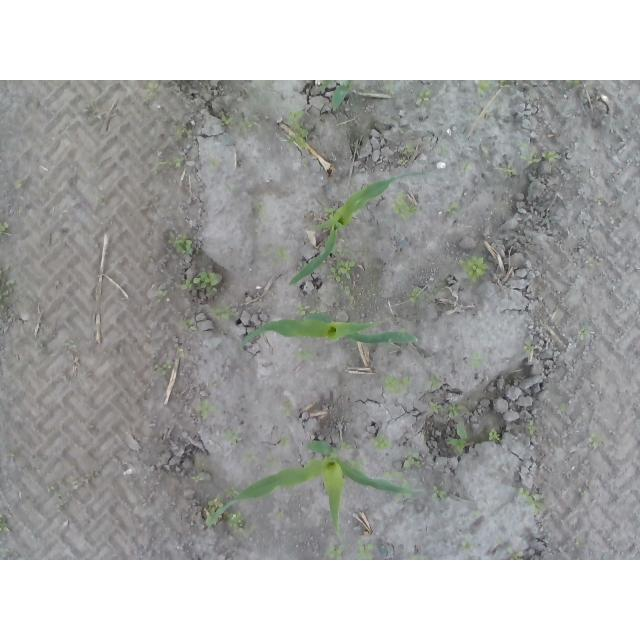Maize: (205, 439, 422, 536), (289, 170, 432, 283), (237, 310, 419, 351), (316, 81, 353, 116)
Weeds: (285, 108, 315, 148), (460, 253, 492, 284), (184, 271, 224, 294), (392, 189, 419, 222), (444, 421, 468, 457), (0, 265, 16, 317), (164, 232, 196, 256), (517, 486, 546, 512), (520, 150, 563, 167), (227, 513, 258, 536), (328, 258, 356, 283), (221, 114, 259, 130), (209, 304, 244, 321), (431, 402, 465, 419), (382, 375, 412, 394), (195, 399, 225, 418), (402, 452, 423, 472), (399, 143, 417, 165), (339, 440, 367, 453), (357, 542, 376, 560), (428, 372, 444, 392), (275, 248, 293, 265), (206, 493, 223, 510), (416, 88, 432, 106), (327, 541, 343, 559), (383, 81, 402, 96), (410, 288, 426, 305), (372, 438, 394, 450), (158, 158, 183, 168), (144, 80, 159, 96), (432, 487, 449, 501), (469, 352, 483, 369), (255, 202, 267, 221), (189, 470, 208, 482), (176, 127, 191, 142), (225, 431, 239, 447), (220, 485, 240, 496), (296, 305, 317, 315), (447, 203, 461, 218), (0, 512, 10, 533), (502, 165, 518, 178), (280, 399, 292, 416), (384, 470, 401, 482), (297, 349, 317, 359), (591, 431, 602, 449), (477, 80, 491, 94), (160, 363, 174, 377), (459, 542, 474, 555), (243, 451, 256, 465), (488, 429, 501, 443), (348, 458, 369, 466), (260, 460, 276, 470), (209, 159, 223, 170), (566, 80, 583, 89), (0, 221, 8, 240), (526, 421, 536, 436), (400, 479, 414, 489), (407, 553, 425, 560), (275, 509, 286, 520), (498, 80, 513, 88), (509, 552, 524, 560), (585, 258, 595, 270), (280, 436, 289, 448), (183, 318, 193, 328), (15, 178, 24, 189), (463, 164, 473, 173), (560, 403, 569, 413), (524, 345, 533, 354), (521, 140, 530, 148), (581, 327, 590, 335)
